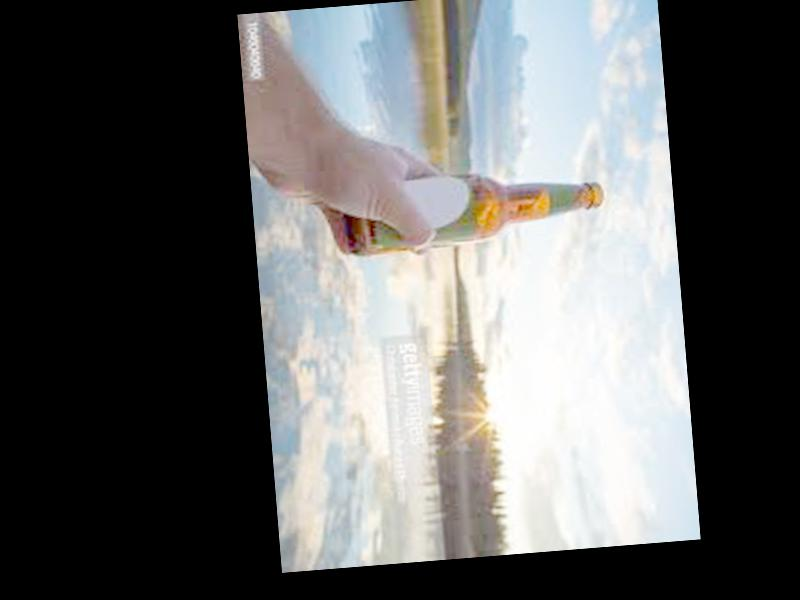Beer: (344, 161, 607, 259)
